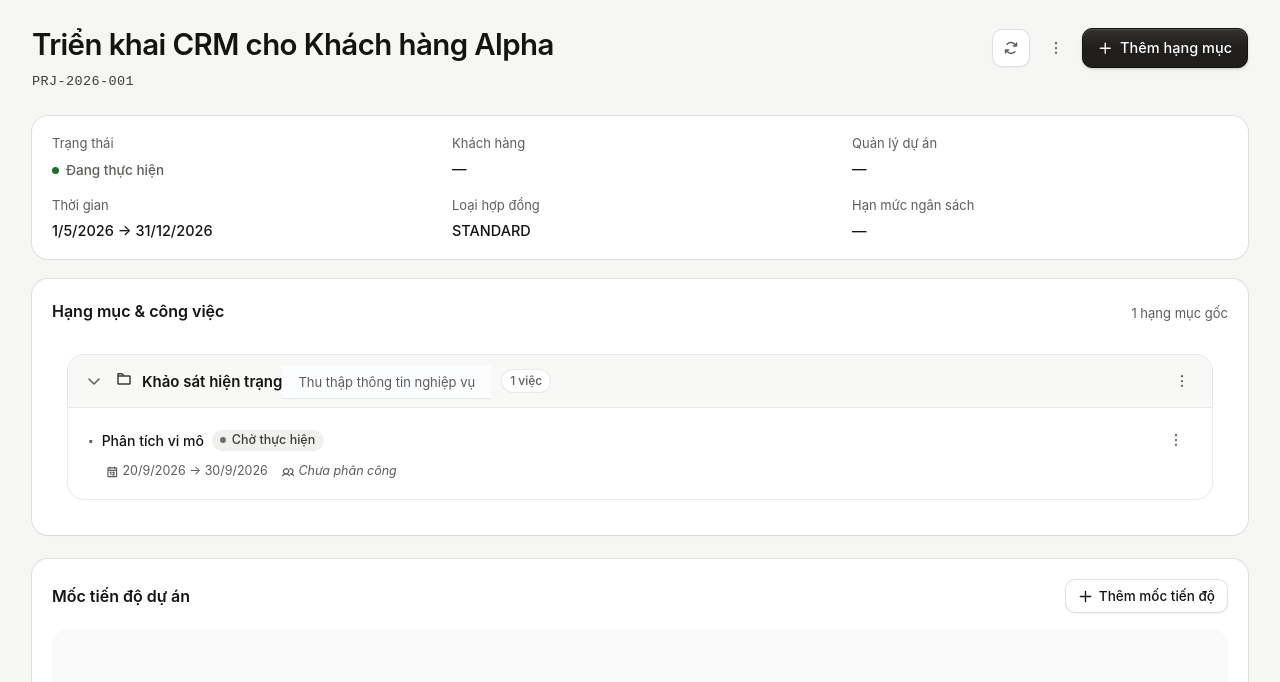
Test: ProjectDetailPage Component (NCL-05-CN-002) › menu ⋮ của công việc → "Phân công" mở hộp thoại phân công nhân sự (trước đây bấm không có tác dụng)
expect the text "Phân tích vi mô" is shown: met, box [102,430,204,451]
Click the button named "Thao tác công việc Phân tích vi mô".
click(1176, 440)  # box [1160,424,1192,456]
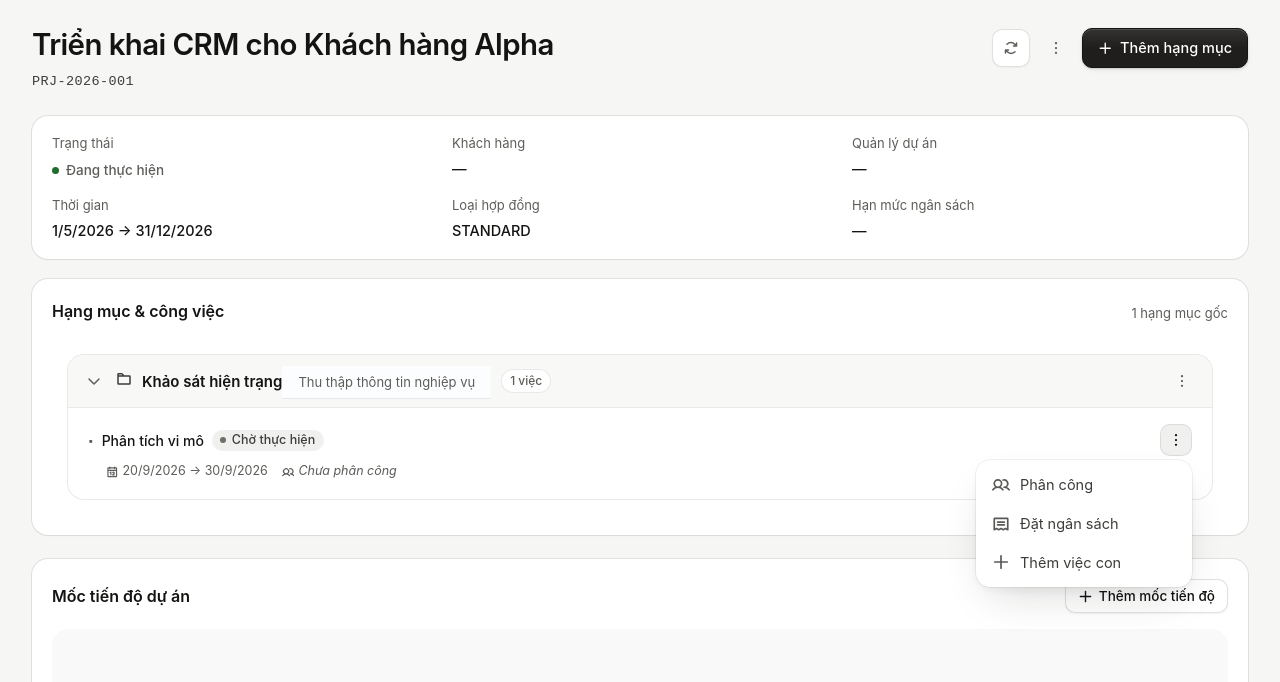
Click the menu item with test id "assign-task-btn-55".
click(1084, 485)  # box [982,466,1186,504]
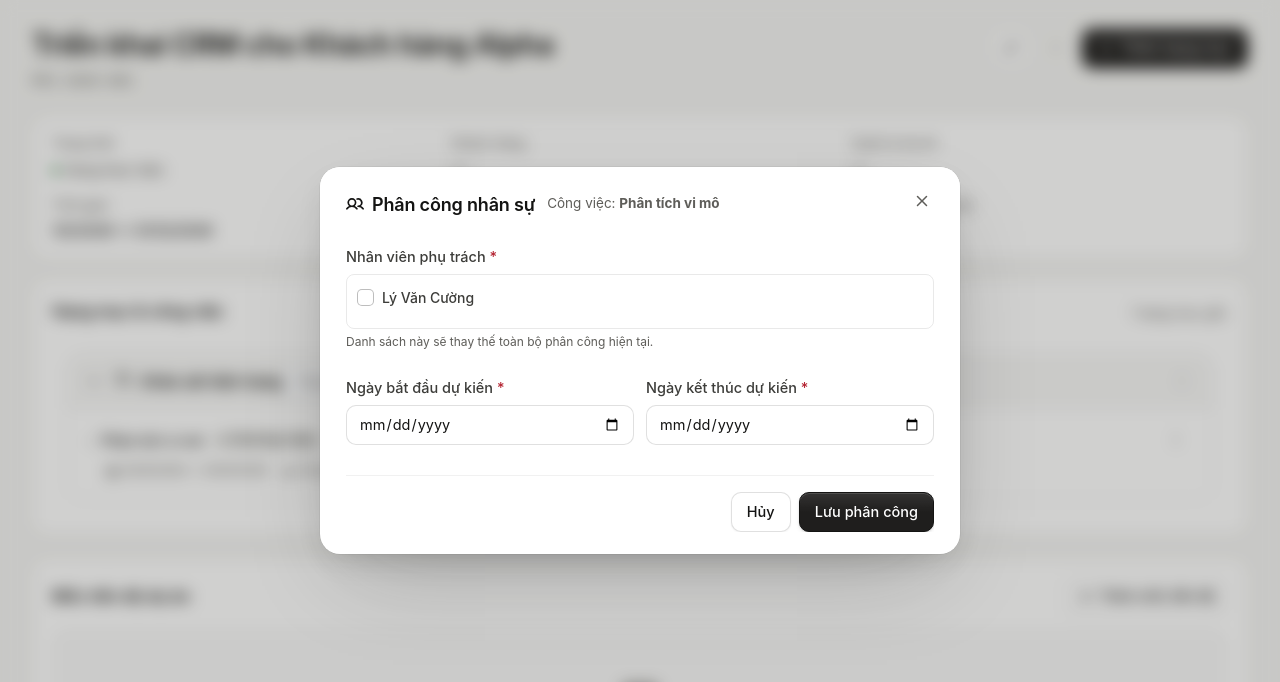
expect the heading "Phân công nhân sự" is shown: met, box [346,190,535,218]
expect the text "Phân tích vi mô" is shown: met, box [619,194,720,210]
